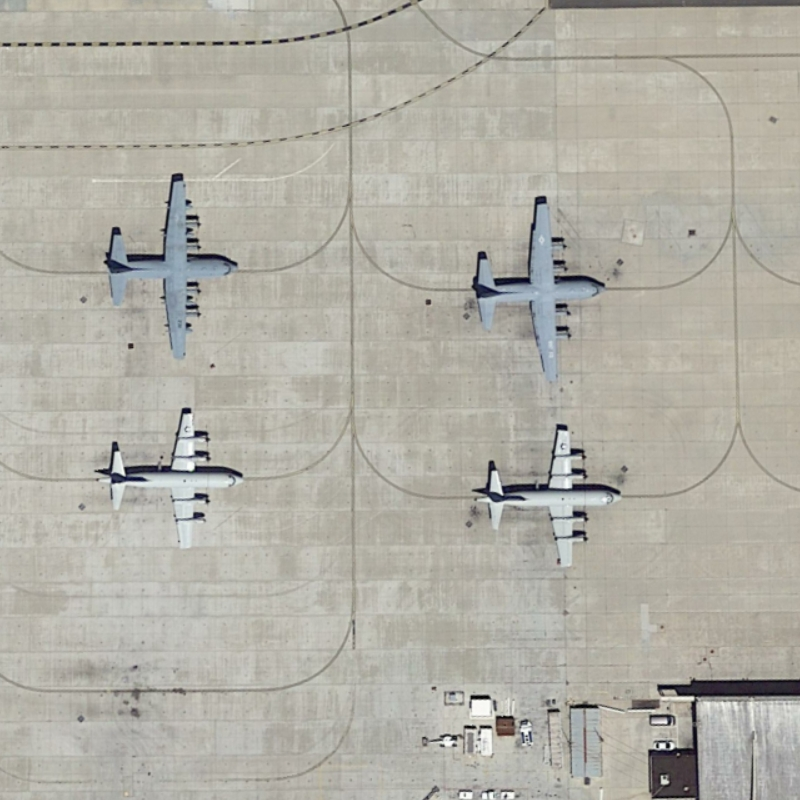A2: (462, 188, 610, 392), (96, 165, 244, 367)
A9: (83, 404, 251, 555), (467, 417, 626, 574)
